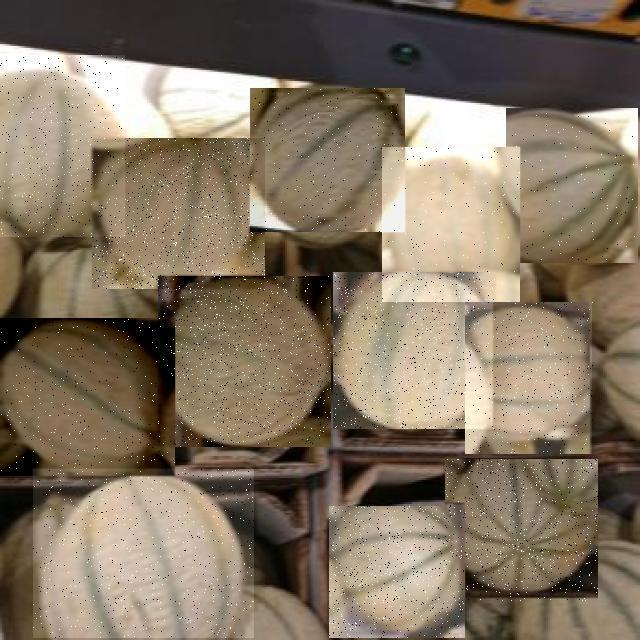Cantaloupe: (33, 469, 254, 638), (158, 276, 331, 447), (0, 318, 175, 476), (92, 138, 265, 289), (333, 272, 496, 429), (0, 55, 125, 237), (250, 88, 405, 232), (445, 460, 598, 602), (383, 147, 521, 302), (506, 108, 638, 263), (466, 302, 594, 454), (329, 506, 465, 638)
